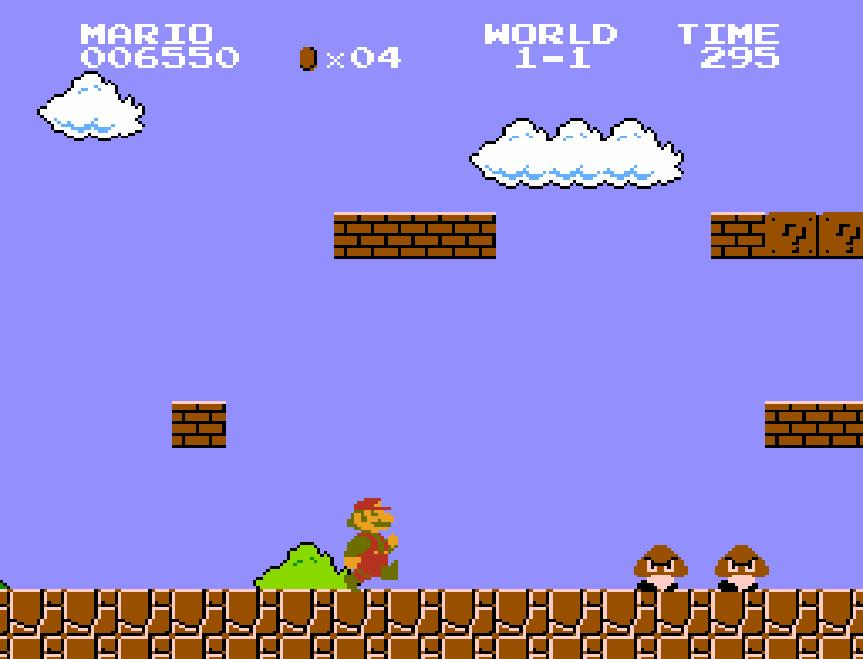big_mario: (342, 496, 400, 594)
